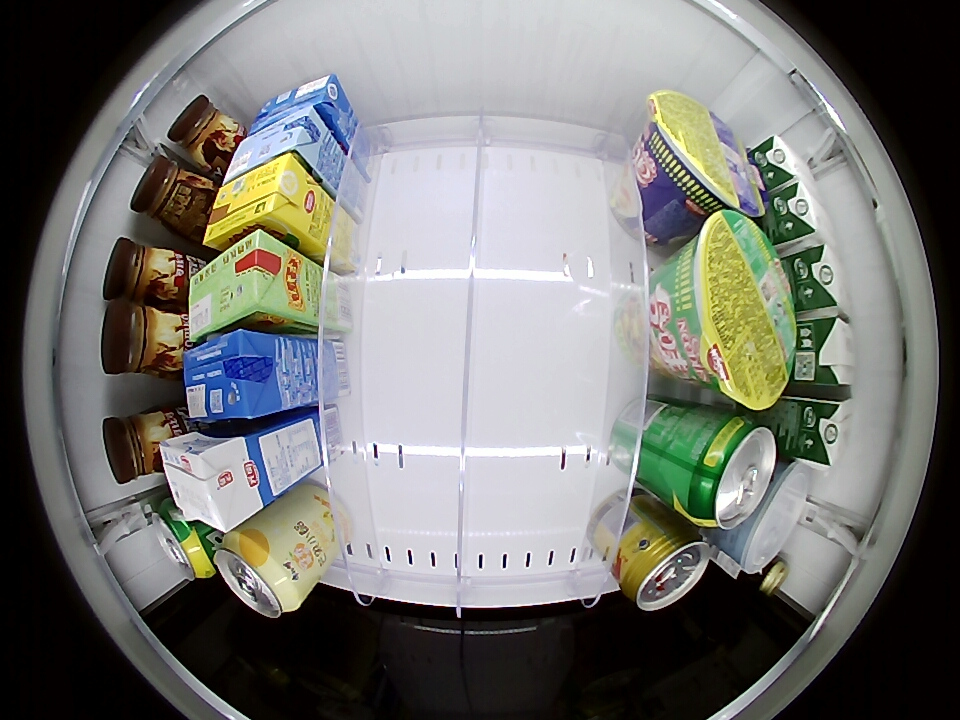haitai: (728, 459, 810, 573)
heweidao: (643, 90, 767, 218)
heweidao2: (672, 209, 798, 411)
hongniu2: (619, 526, 711, 611)
jindian: (775, 181, 839, 252), (794, 242, 852, 319), (799, 314, 857, 389), (753, 133, 820, 197), (796, 396, 855, 467)
libaojian: (735, 551, 790, 597)
lujikafei: (129, 155, 214, 237), (100, 302, 185, 379), (102, 236, 183, 306), (102, 408, 177, 483), (167, 95, 238, 167)
mangguoxiaolao: (215, 530, 304, 619)
niunai: (161, 430, 266, 532)
wanglaoji: (186, 229, 295, 342)
weitanai: (182, 330, 280, 422), (250, 74, 346, 132)
weitanaiditang: (224, 107, 325, 182)
weitaningmeng: (204, 153, 310, 250)
xuebi2: (677, 413, 777, 529), (151, 499, 216, 581)
